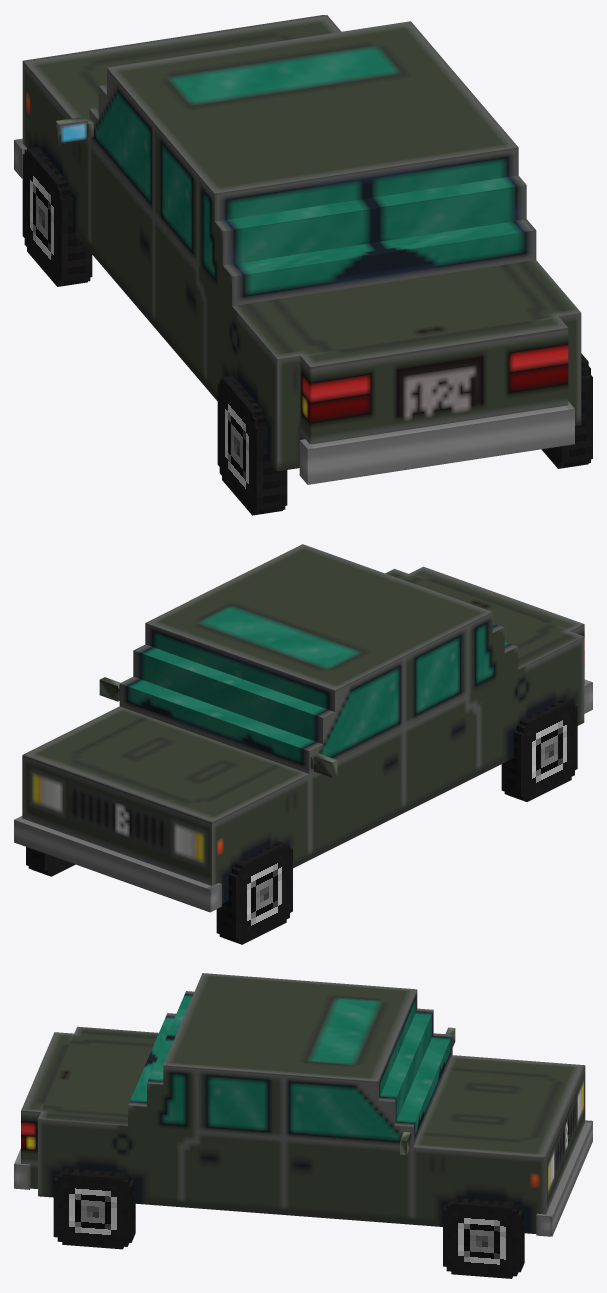
The model's file is BGN_DEFAULT CAR.fbx.
3 views of the same model, one above another, from view 1: azimuth 30°, elevation 25°; view 2: azimuth 150°, elevation 25°; view 3: azimuth 270°, elevation 25° (orthographic). The views are drawn at different scales.
Visible parts, largest first — view 1: BGN_DEFAULT_CAR, R_R__6_, R_R__5_, R_R__8_; view 2: BGN_DEFAULT_CAR, R_R__6_, R_R__5_, R_R__7_; view 3: BGN_DEFAULT_CAR, R_R__8_, R_R__7_.
Boxes of the visible parts, box(x1,y1,x2,y2) form: BGN_DEFAULT_CAR: box(14, 15, 581, 484); R_R__6_: box(217, 376, 287, 515); R_R__5_: box(22, 147, 92, 286); R_R__8_: box(541, 353, 592, 468); BGN_DEFAULT_CAR: box(14, 544, 592, 912); R_R__6_: box(501, 699, 577, 801); R_R__5_: box(216, 841, 292, 944); R_R__7_: box(26, 847, 75, 876); BGN_DEFAULT_CAR: box(14, 973, 592, 1236); R_R__8_: box(53, 1168, 135, 1249); R_R__7_: box(443, 1197, 524, 1278).
Size of the model in its own units: 272 by 166 by 483.
Materials: 2 (2 with a texture image).
